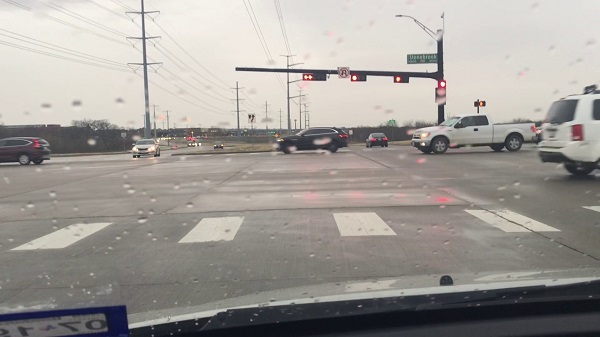car: (536, 95, 600, 176), (277, 127, 346, 154), (2, 136, 49, 165), (130, 138, 161, 157), (365, 131, 388, 146)
truck: (408, 114, 537, 152)
